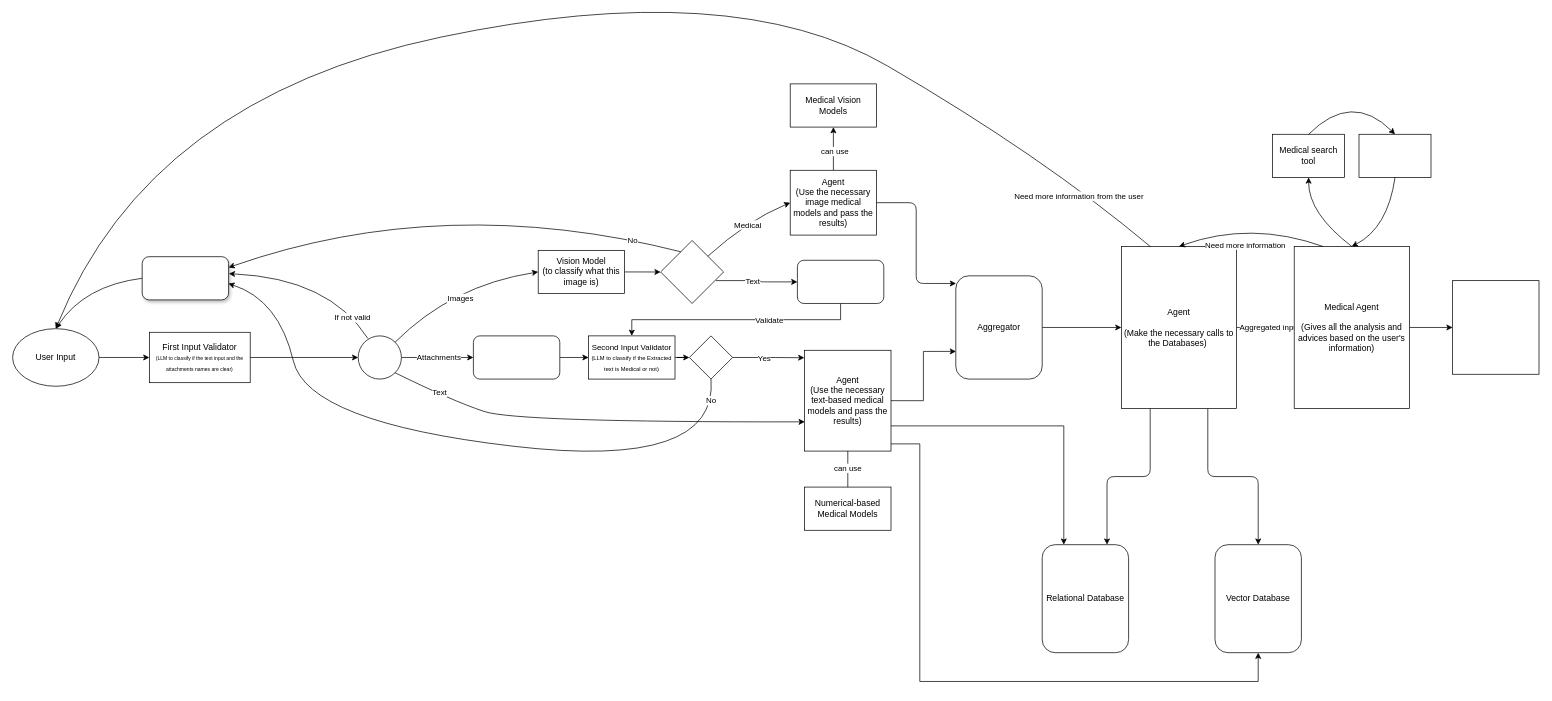
Image size: 1552x701. Some labels were removed from this diagram. The shapes that lost their labels are listed below. From the top down, each one's centre as x and y in pixels, then its label:
the point at 1394,155: Medical Search LLM summarizer
the point at 186,279: Refine input message
the point at 692,271: Valid? and what?
the point at 840,281: Extract Text (from an image)
the point at 1495,327: Output Refinement (Make the output user freindly)
the point at 516,357: Extract Text (from pdf, csv, etc....)
the point at 711,357: Valid?
